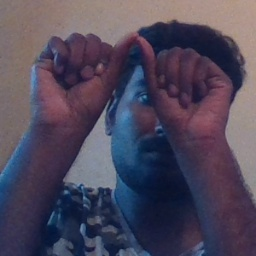A: (44, 26, 225, 132)
